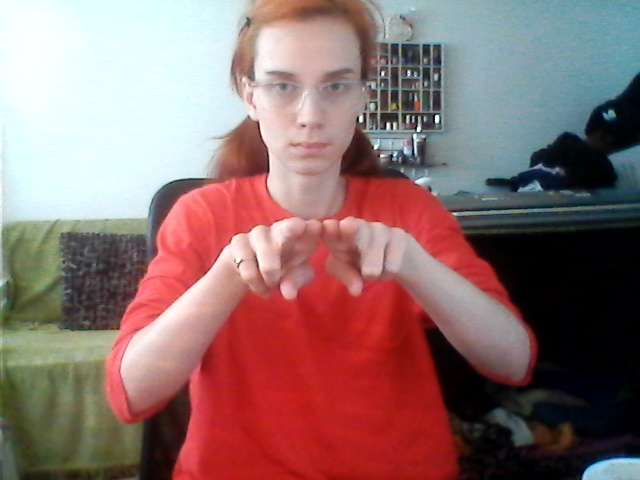brat: (223, 210, 413, 317)
